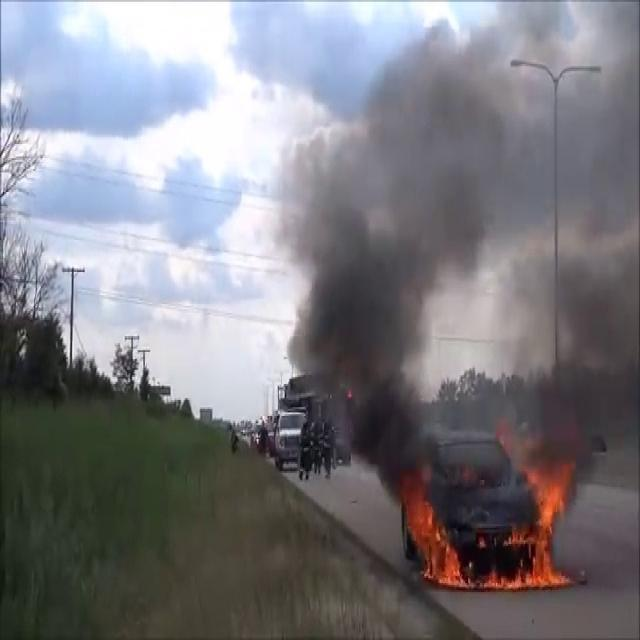Fire: (520, 458, 578, 594), (402, 480, 466, 590)
Smoke: (272, 2, 640, 474)
